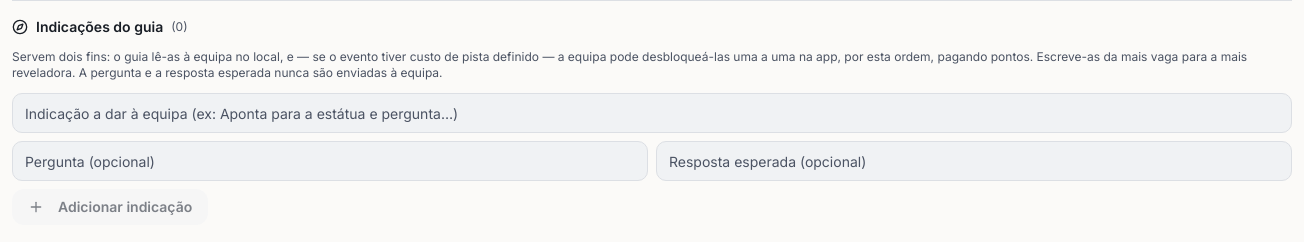
CheckpointGuideIndicationsManager › keeps the add button disabled until a hint is typed
Expected: the text "(0)" is shown, [171,19,188,35]
Expected: the button "Adicionar indicação" is disabled, [12,189,208,225]
Replace the text in the field with placeholder "Indicação a dar à equipa" with "A new hint". click: (652, 113)
box: [12,93,1292,133]
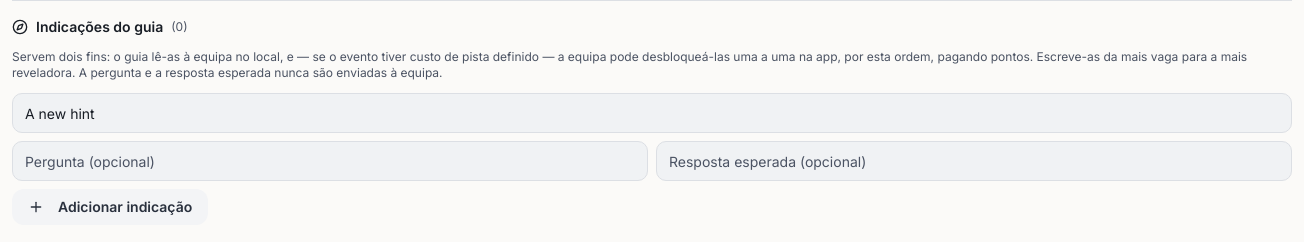
Expected: the button "Adicionar indicação" is enabled, [12,189,208,225]
